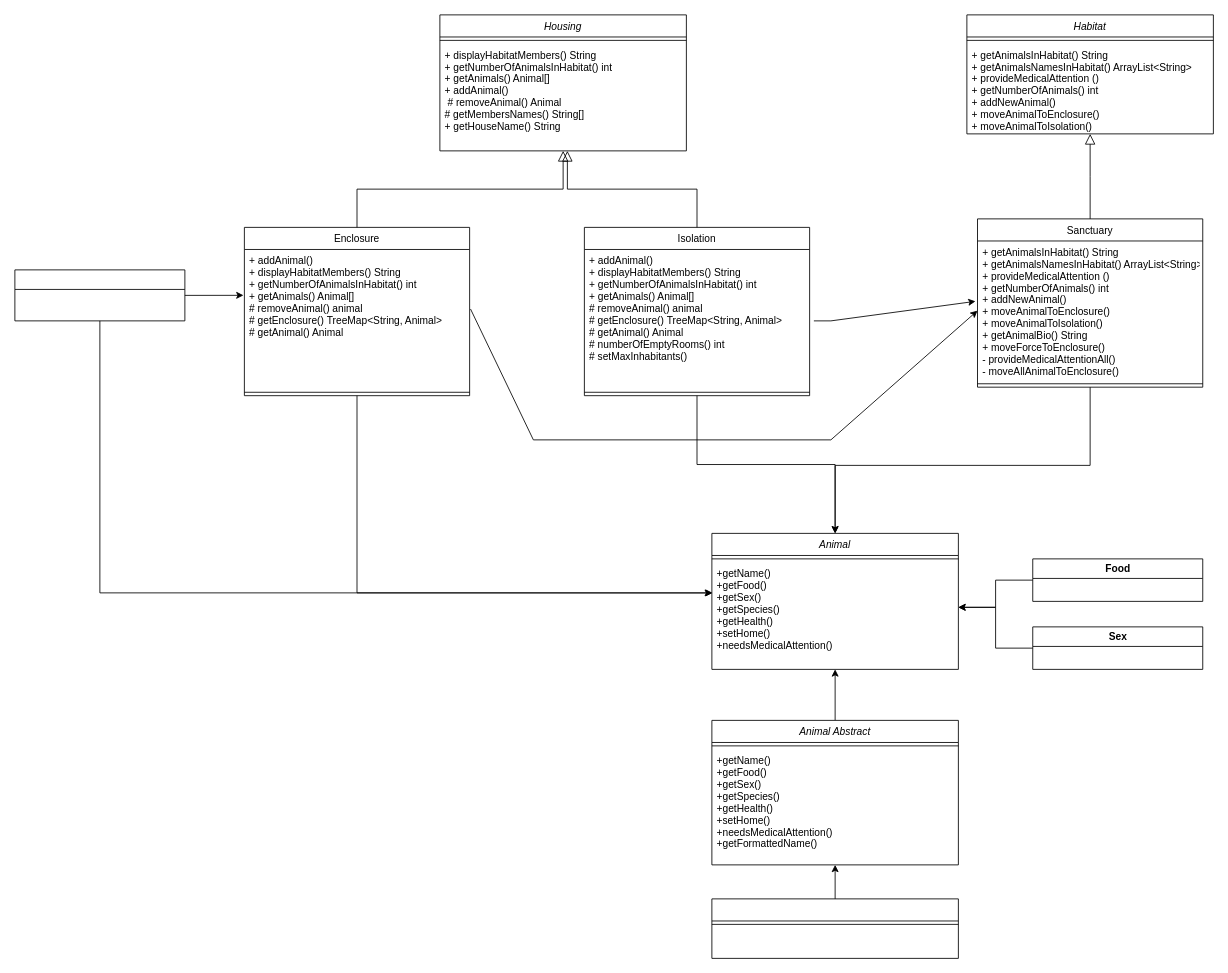
This 1228x973 diagram has some shape labels left out. Here are the shapes that lost their labels. From the top down, the centre of each, then its label:
At [99,295]: "Species".
At [834,928]: "Monkey".
